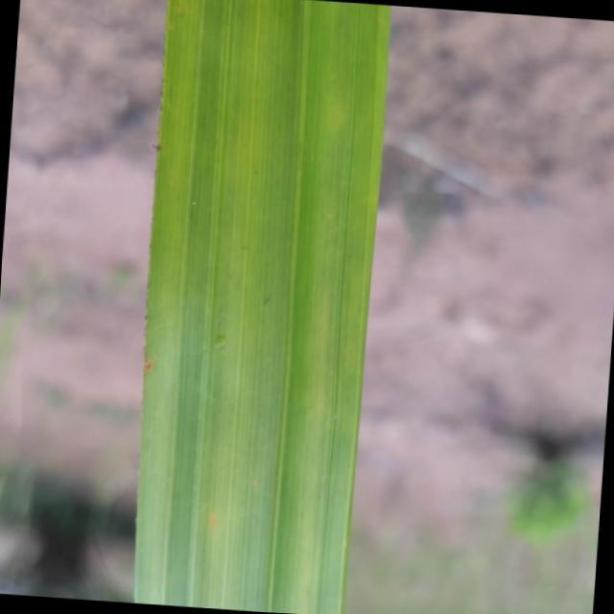nitrogen: (126, 0, 386, 614)
